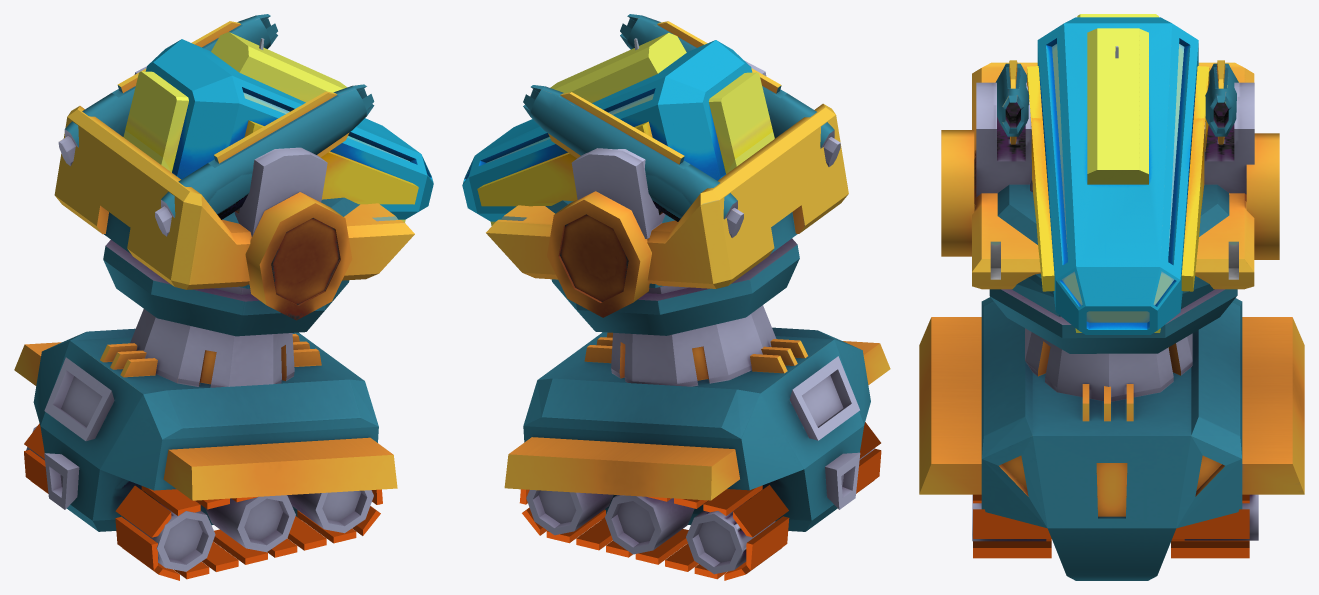
The model's file is Player_moving_upgrade10.obj.
3 renders of one model, left to right at view 1: azimuth 30°, elevation 25°; view 2: azimuth 150°, elevation 25°; view 3: azimuth 270°, elevation 25°, orthographic. The views are drawn at different scales.
Parts seen in each view (by area): view 1: Object015, Object014, Box009, Box017, Box016; view 2: Object015, Object014, Box009, Box016, Box017; view 3: Object015, Object014, Box016, Box017, Box009.
Part boxes in pixels (left/top/right/bottom): Object015: left=14, top=32, right=433, bottom=531; Object014: left=58, top=14, right=374, bottom=236; Box009: left=26, top=426, right=373, bottom=571; Box017: left=115, top=485, right=382, bottom=580; Box016: left=24, top=423, right=48, bottom=493; Object015: left=462, top=32, right=890, bottom=531; Object014: left=523, top=14, right=840, bottom=237; Box009: left=526, top=448, right=875, bottom=574; Box016: left=519, top=485, right=789, bottom=580; Box017: left=856, top=422, right=881, bottom=493; Object015: left=919, top=14, right=1304, bottom=580; Object014: left=995, top=60, right=1238, bottom=144; Box016: left=1171, top=494, right=1249, bottom=558; Box017: left=973, top=494, right=1051, bottom=558; Box009: left=972, top=494, right=1258, bottom=541.
Bounding box in the file's own units: 70.38 × 88.9 × 59.78.
5 materials, 3 textured.
